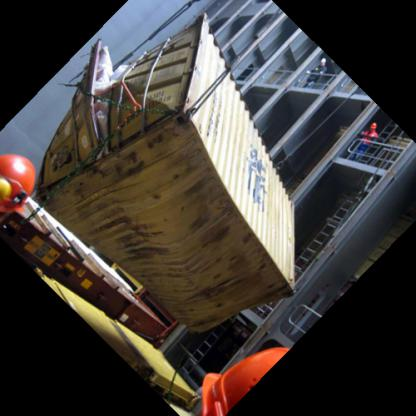Damage: (75, 19, 147, 164), (71, 176, 159, 256)
